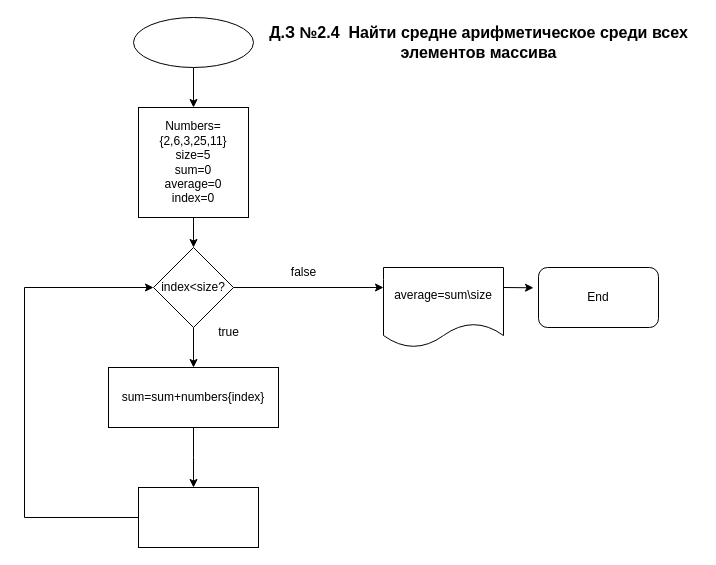
The diagram is 716 pixels wide and 565 high, and some of its shapes have lost their labels. The box of each missing label's shape, as (x1, y1, x2, y2) in pixels:
Index=index+1: (138, 486, 258, 548)
Start: (132, 16, 254, 68)
